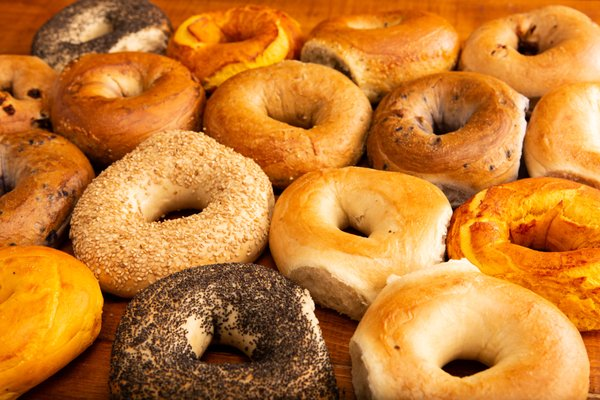salad: (70, 129, 275, 299), (350, 262, 595, 397), (108, 262, 338, 397), (269, 165, 453, 321), (447, 174, 600, 334), (204, 59, 374, 189), (366, 71, 528, 191), (50, 50, 206, 167), (0, 244, 105, 396), (298, 10, 460, 105), (458, 5, 600, 99), (0, 128, 95, 250), (166, 4, 302, 86), (30, 0, 174, 70), (522, 81, 600, 189), (0, 53, 59, 135)
